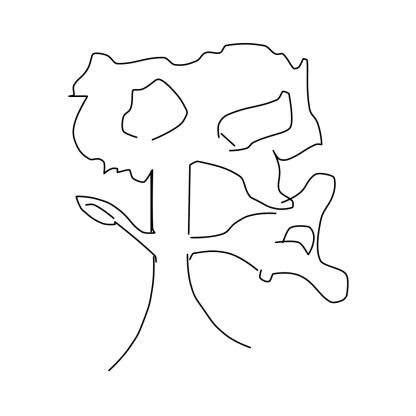crown_dizzy: (66, 42, 349, 303)
trunk_straight: (148, 194, 201, 305)
